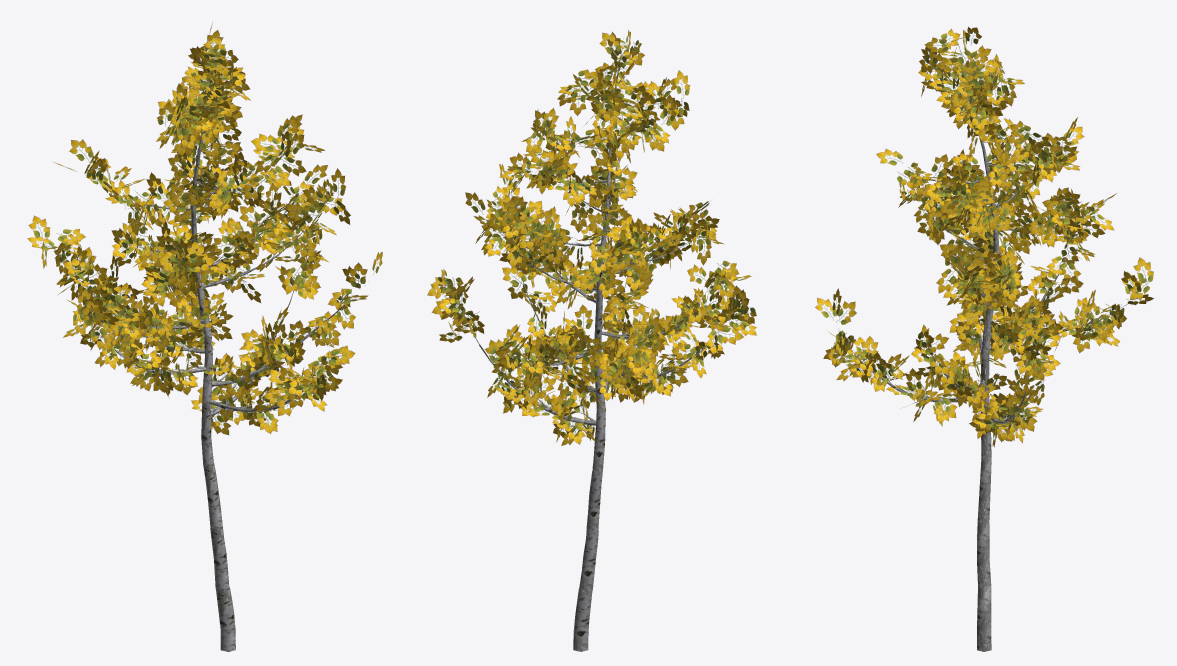
File: aspen.glb
3 renders of one model, left to right at view 1: azimuth 30°, elevation 25°; view 2: azimuth 150°, elevation 25°; view 3: azimuth 270°, elevation 25°, orthographic. The views are drawn at different scales.
Visible parts, largest first — view 1: aspen; view 2: aspen; view 3: aspen.
Boxes of the visible parts, left/top/right/bottom form: aspen: left=27, top=23, right=382, bottom=651; aspen: left=427, top=30, right=756, bottom=651; aspen: left=815, top=26, right=1154, bottom=651.
Size of the model in its own units: 2.93 by 5.7 by 3.01.
2 materials, 2 textured.
